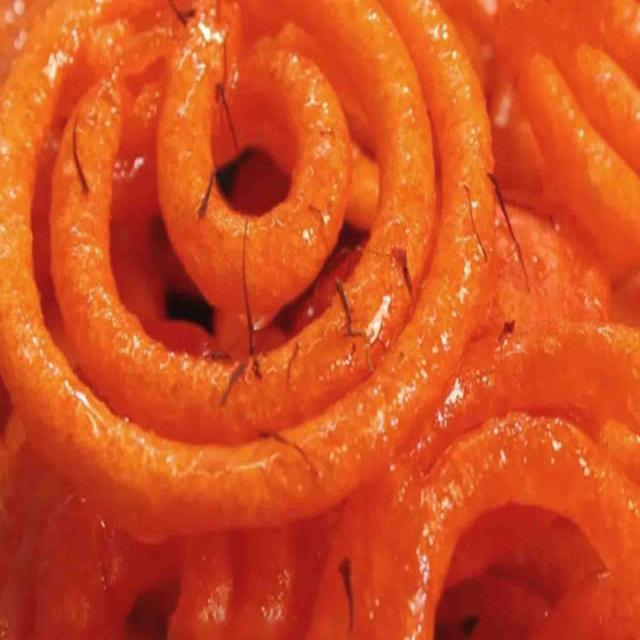jalebi: (1, 6, 640, 625)
